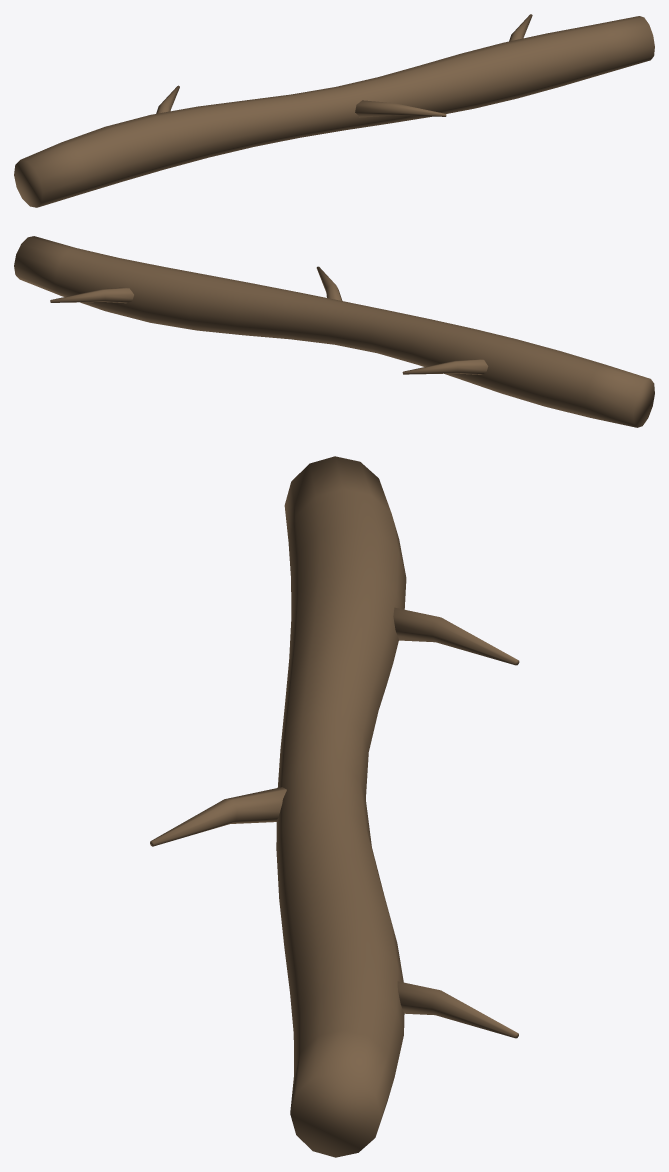
Rendered from branch.glb.
3 views of the same model, one above another, from view 1: azimuth 30°, elevation 25°; view 2: azimuth 150°, elevation 25°; view 3: azimuth 270°, elevation 25° (orthographic). The views are drawn at different scales.
Parts seen in each view (by area): view 1: RM_Branch_Bark; view 2: RM_Branch_Bark; view 3: RM_Branch_Bark.
Part boxes in pixels (box(x1,y1,x2,y2)): RM_Branch_Bark: box(14, 14, 654, 207); RM_Branch_Bark: box(14, 236, 654, 427); RM_Branch_Bark: box(150, 456, 519, 1157).
Size of the model in its own units: 1.86 by 0.1896 by 0.4797.
